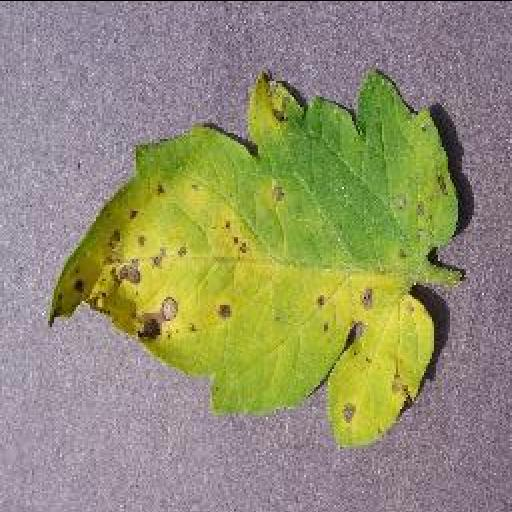disease_tomato: (48, 66, 464, 444)
